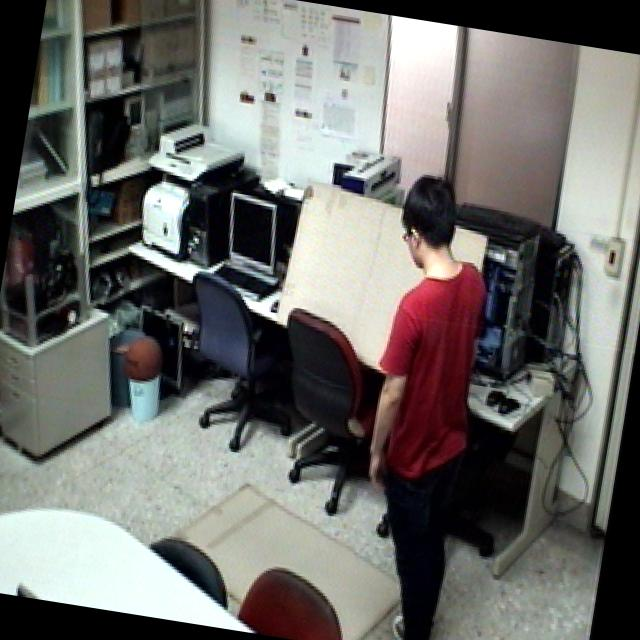stand: (323, 158, 534, 640)
